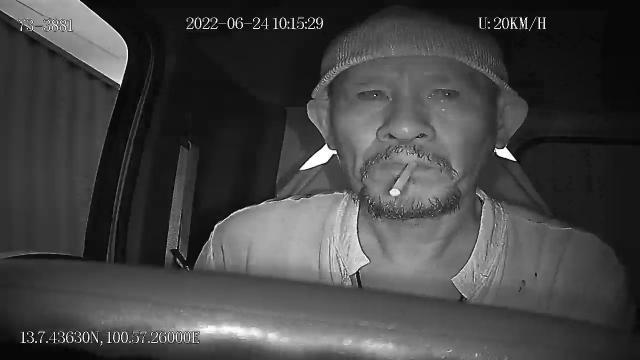SafeDriving: (416, 75, 469, 109), (346, 76, 398, 108)
Smoking: (388, 160, 416, 198)
